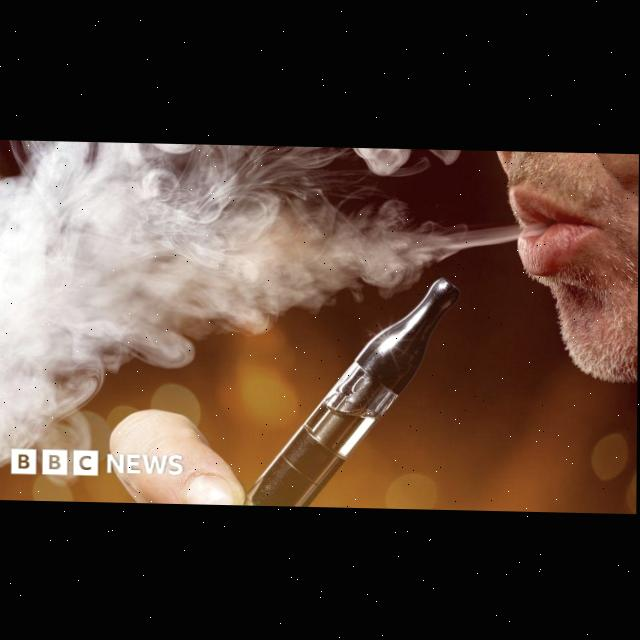vape: (236, 271, 463, 508)
